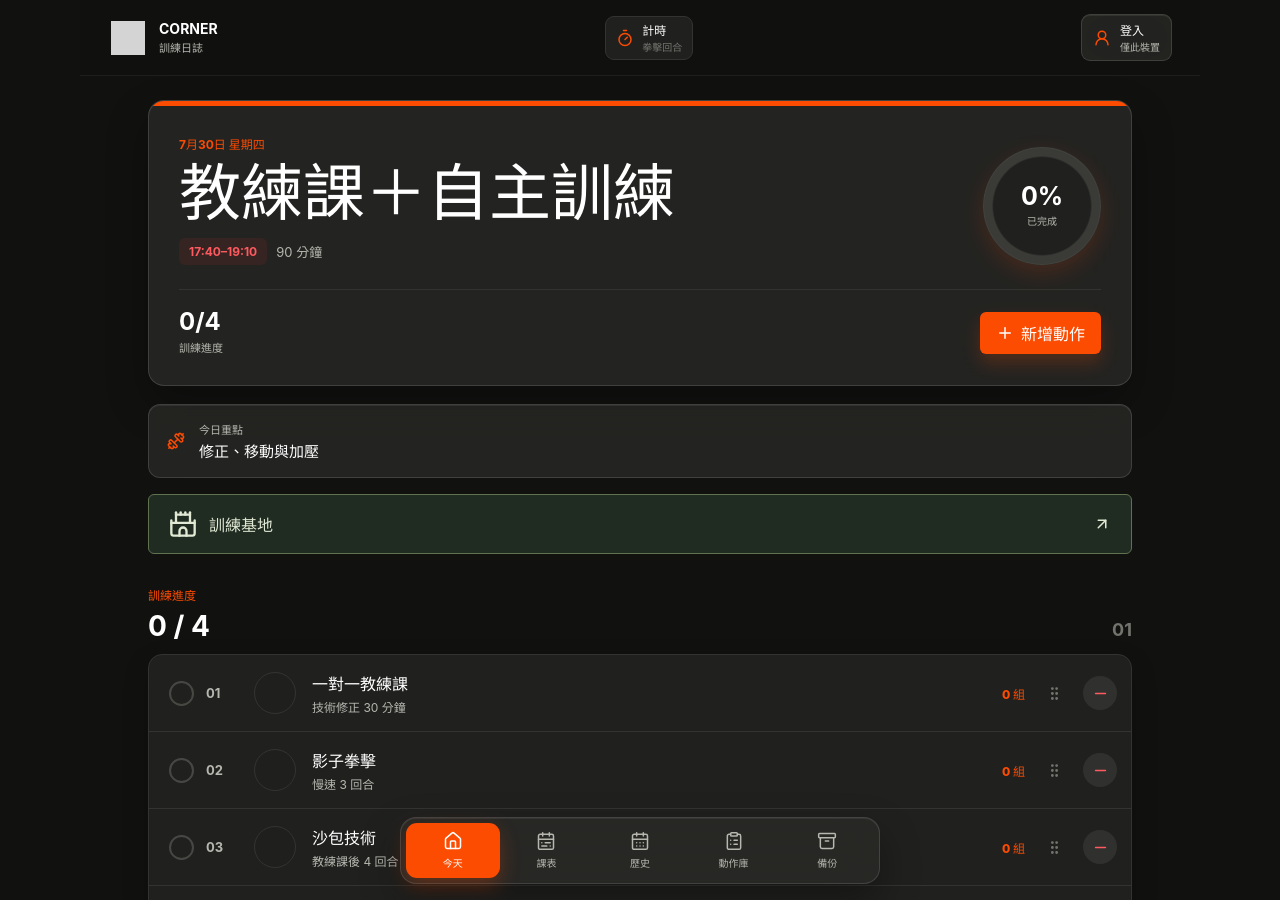
Test: Boxing Tracker › reorders an added drill with planned drills and restores the order
Step 1. Click the button "動作庫" → {"x": 734, "y": 850}, box top-left (687, 823), bottom-right (780, 878)
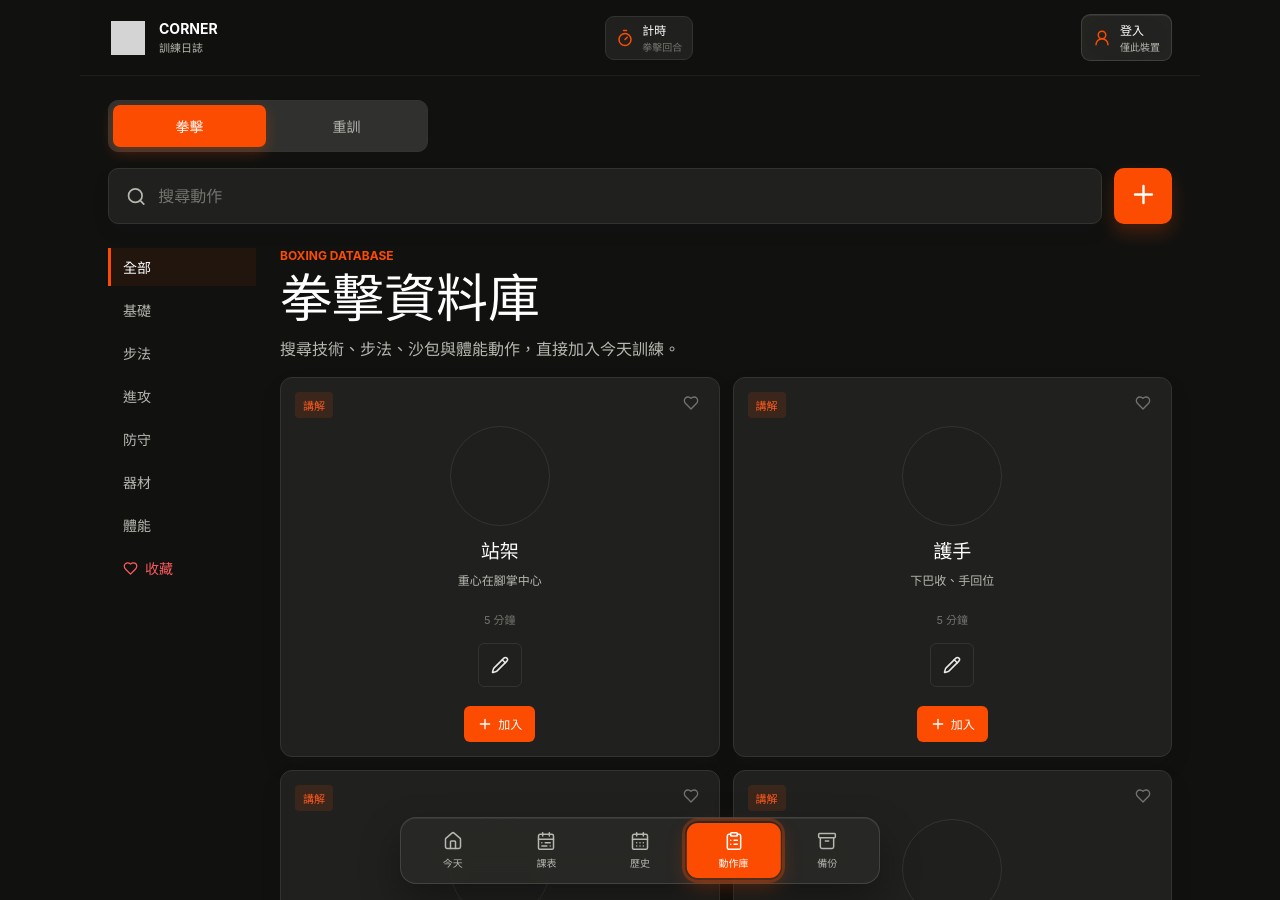
Step 2. Type "jab" into the field with placeholder "搜尋動作" → {"x": 620, "y": 196}, box top-left (156, 185), bottom-right (1084, 207)
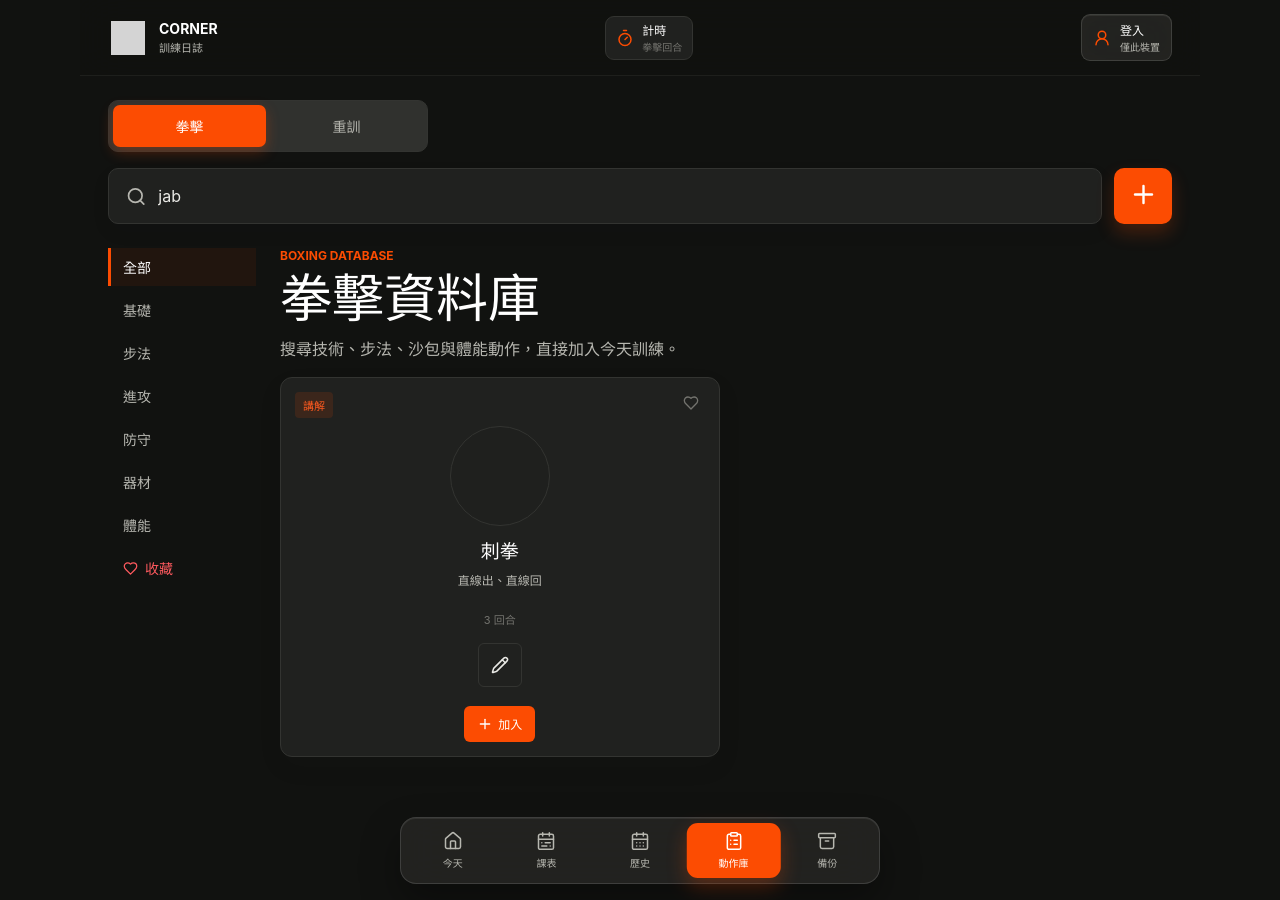
Step 3. Click the button with aria-label "加入 刺拳" → {"x": 500, "y": 724}, box top-left (464, 706), bottom-right (535, 742)
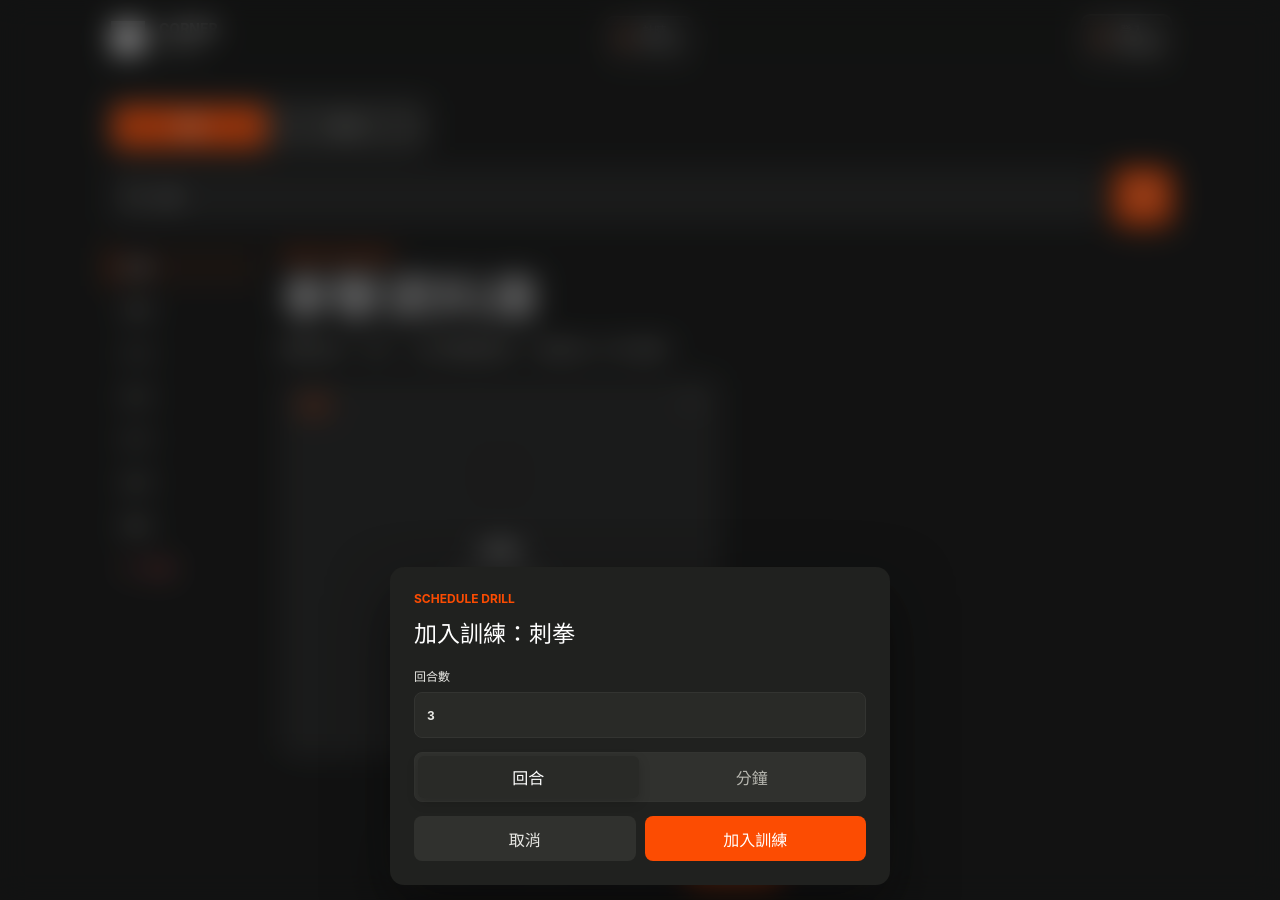
Step 4. Click the button "加入訓練" → {"x": 755, "y": 838}, box top-left (644, 816), bottom-right (866, 861)
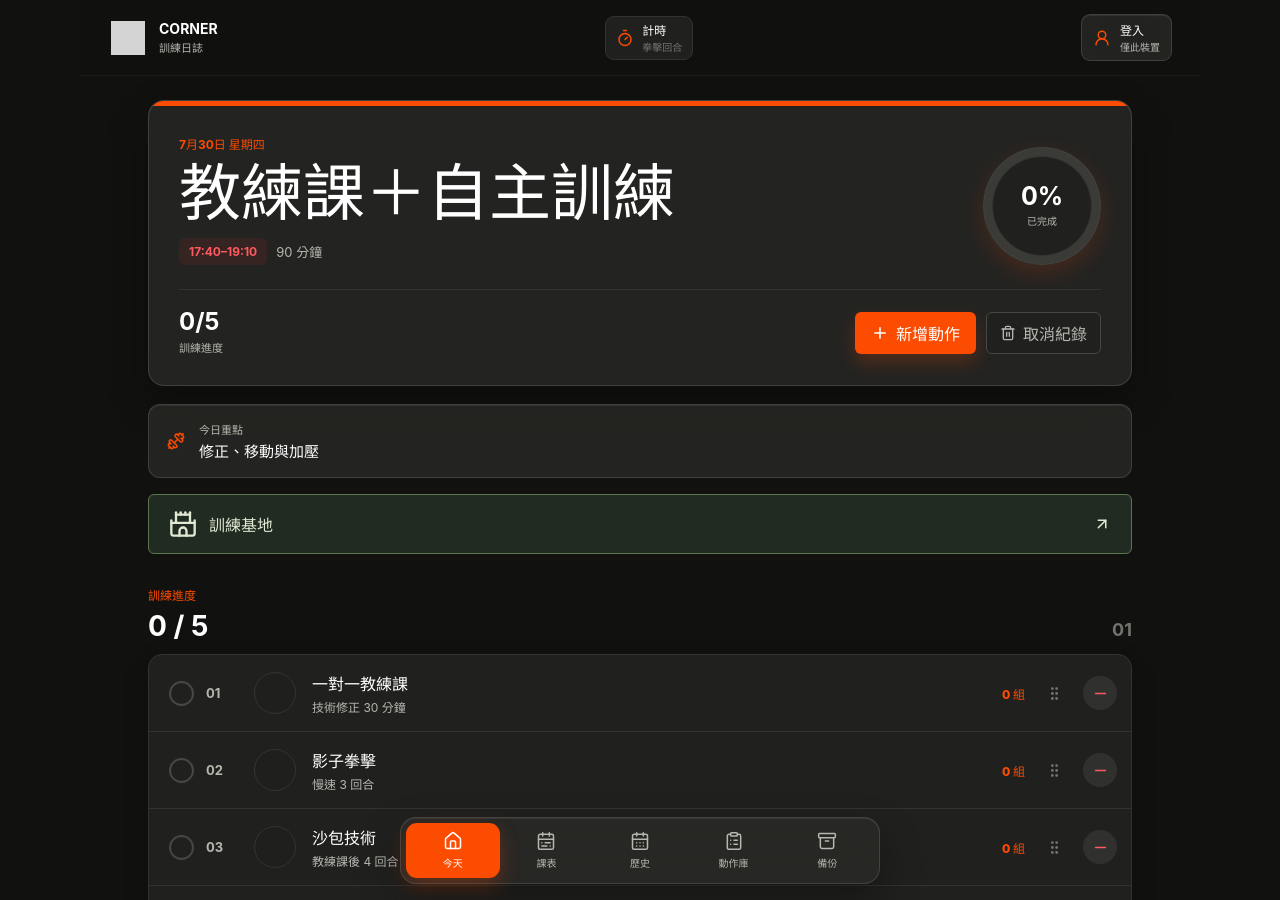
Expected: the heading "02 影子拳擊 慢速 3 回合 0 組" is shown, top-left (168, 749), bottom-right (1117, 792)
